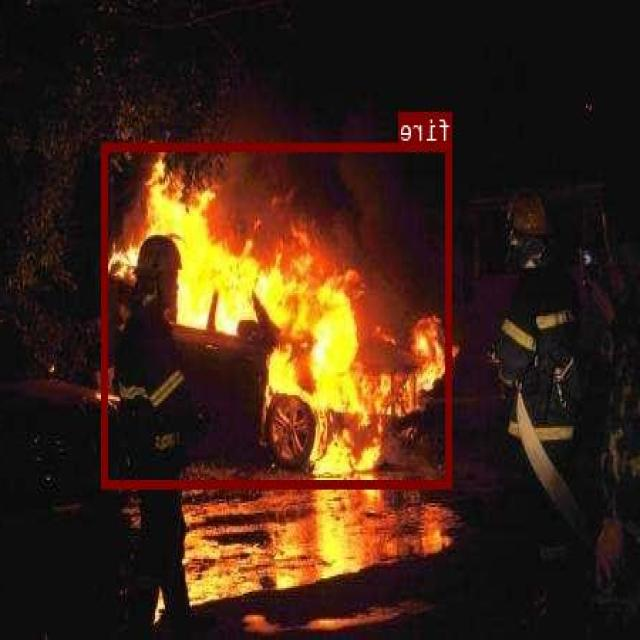fire: (104, 141, 452, 486)
